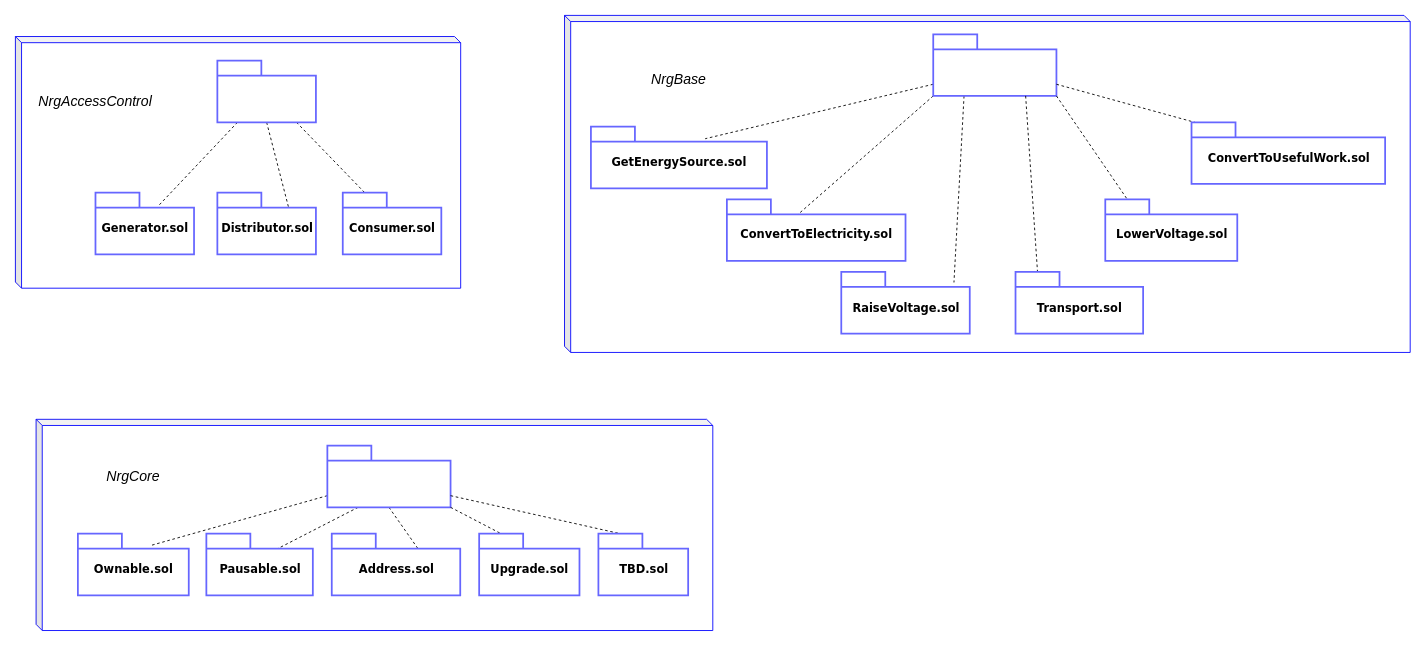
The diagram is 1426 pixels wide and 646 high, and some of its shapes have lost their labels. Each missing label, with the centre of its shape:
"NrgLifecycle.sol" belongs at [994,64].
"Roles.sol" belongs at [266,91].
"ValueChain.sol" belongs at [388,476].
